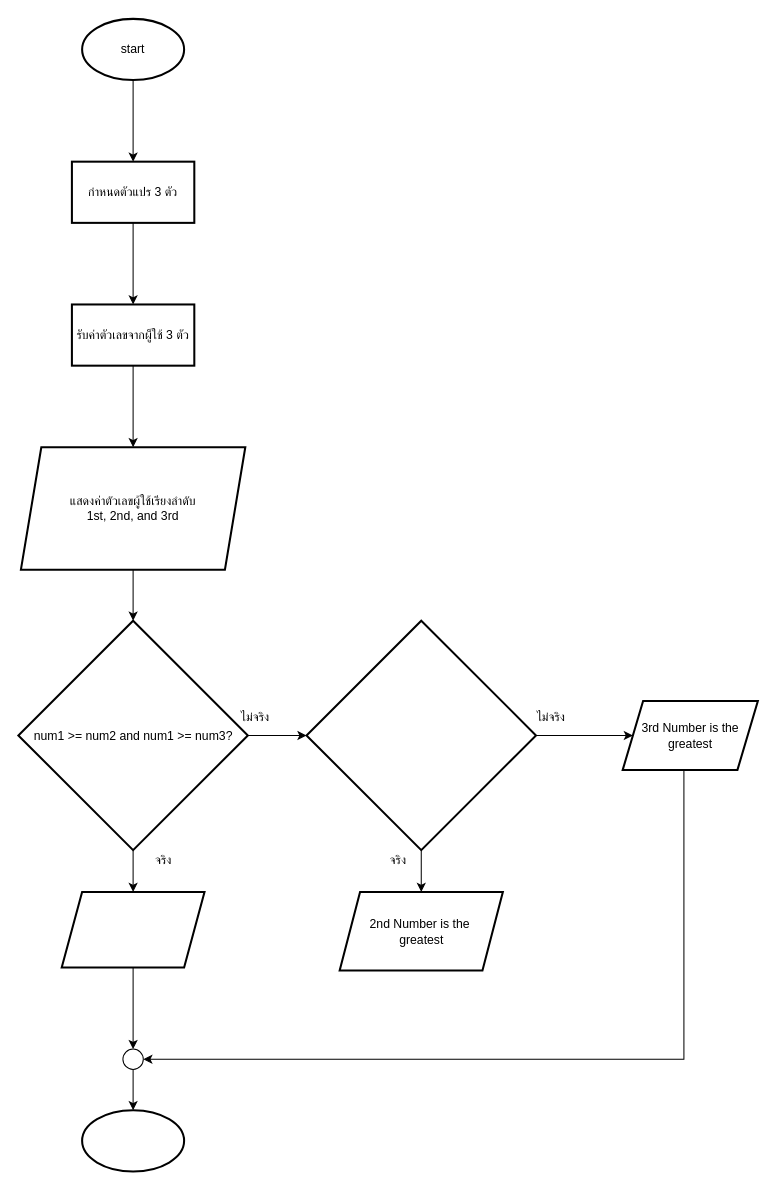
Some shapes in this 776 by 1189 pixel diagram are drawn without their labels. Each missing label, with the centre of its shape:
1st Number is the greatest: the point at 132,929
end: the point at 133,1140
num2 >= num1 and num2 >= num3?: the point at 421,735
